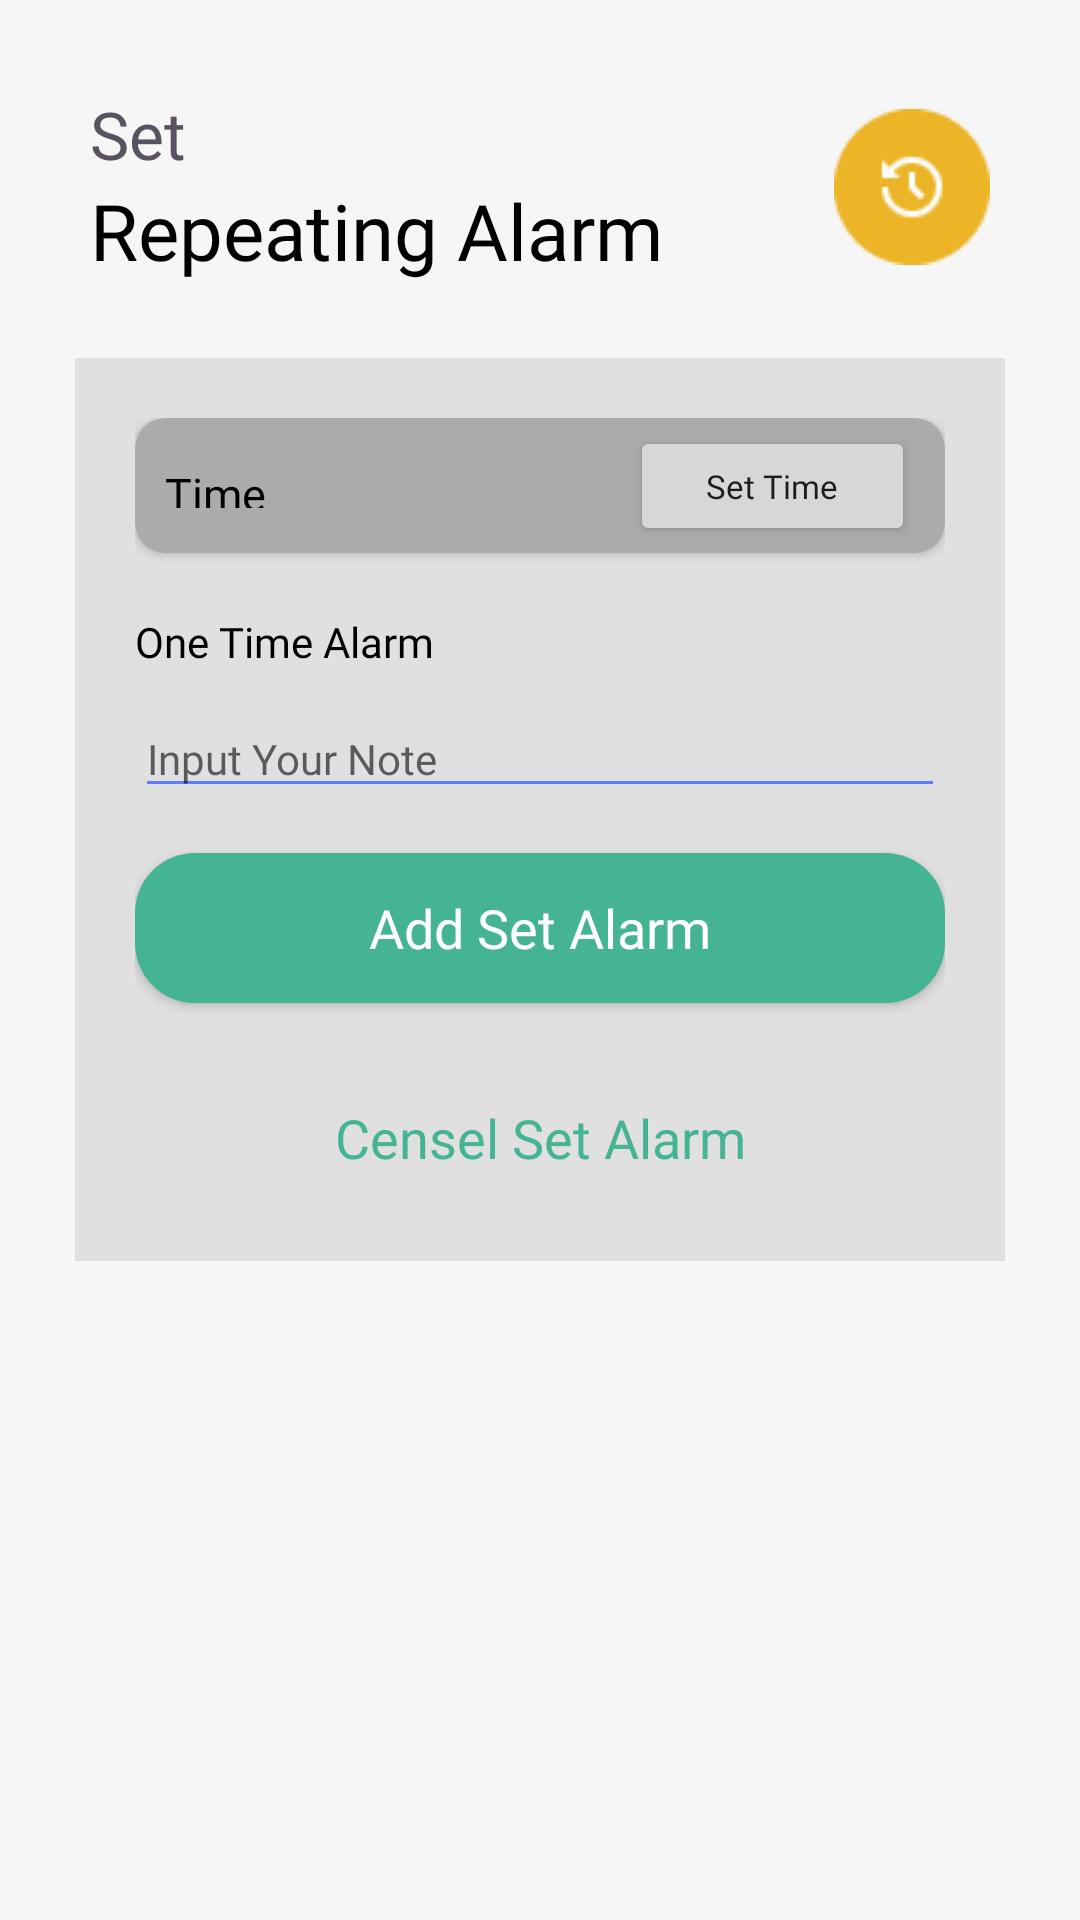

Point at icon controls on the screen. Image size 1080x1920, points as (x,y).
repeating: (912,187)
